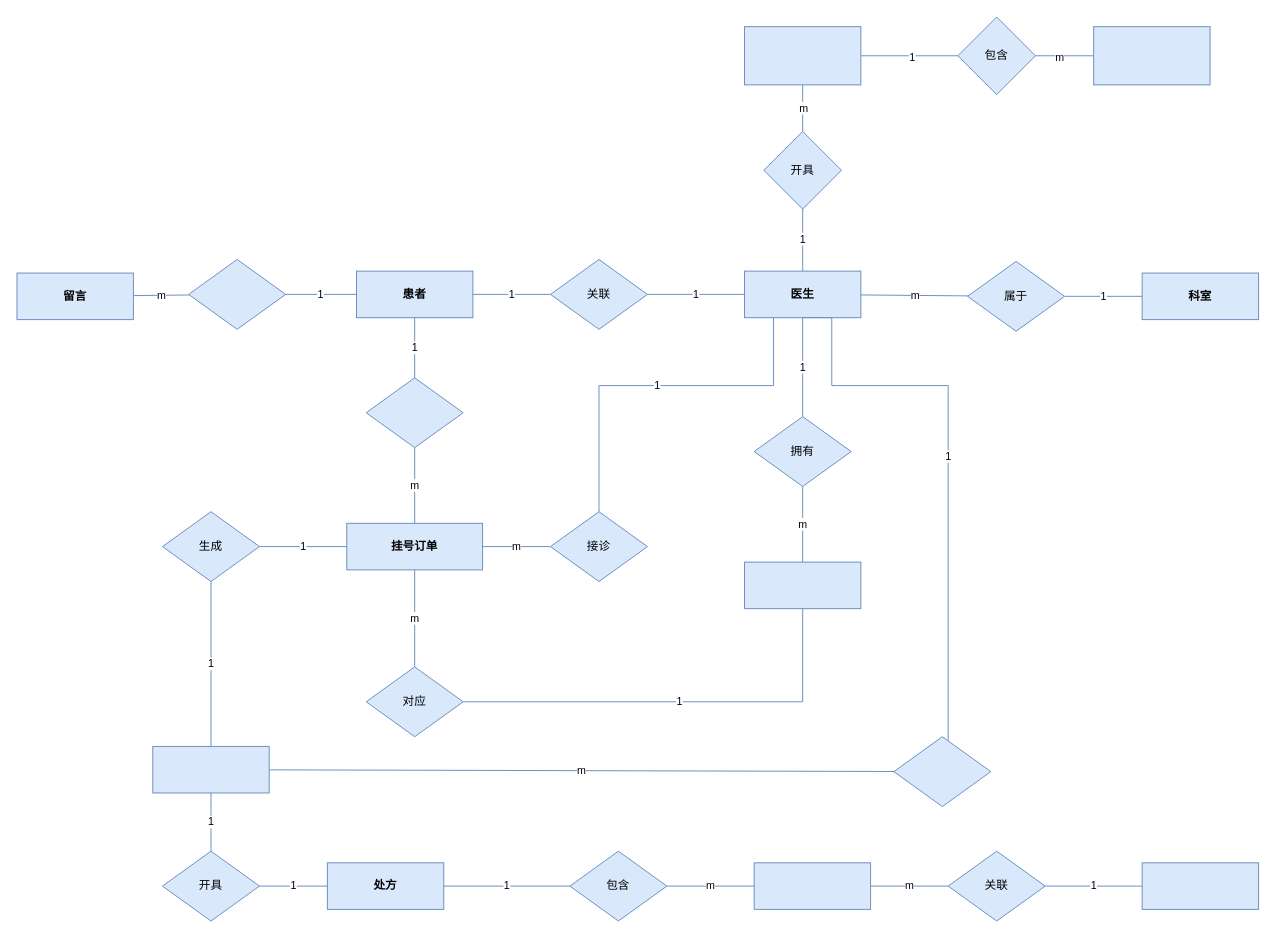
This 1276x938 diagram has some shape labels left out. The centre of each missing label's shape, as x and y in pixels:
"书写" belongs at pixel 942 771.
"创建" belongs at pixel 414 412.
"处方明细" belongs at pixel 812 885.
"排班" belongs at pixel 802 585.
"提交" belongs at pixel 237 294.
"检查单" belongs at pixel 802 55.
"检查单明细" belongs at pixel 1151 55.
"病历" belongs at pixel 210 769.
"药品" belongs at pixel 1200 885.
